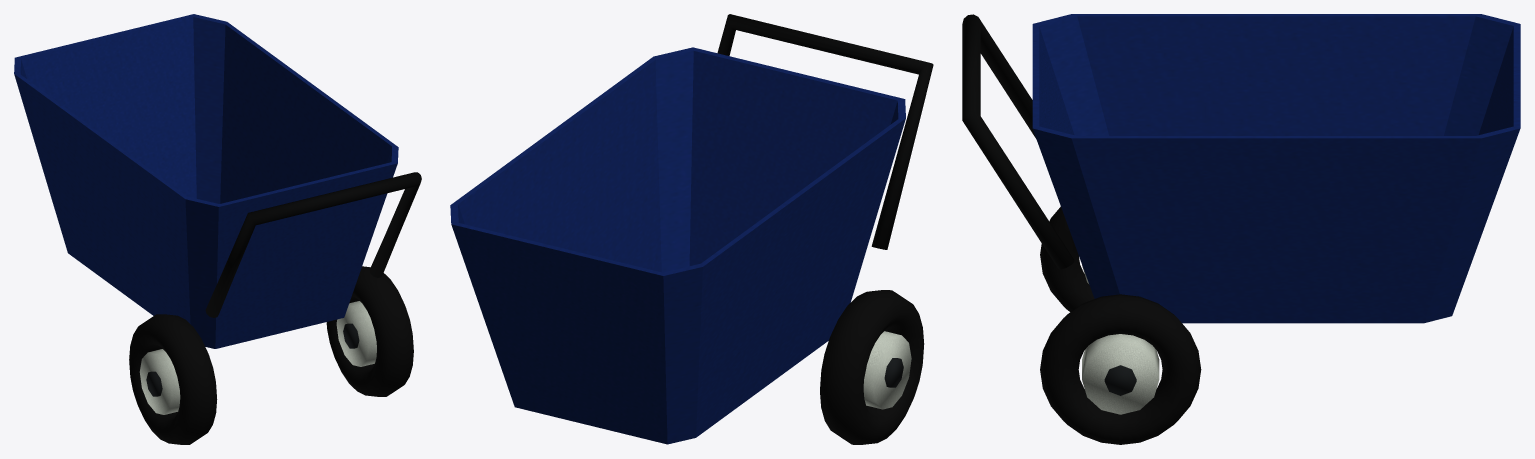
File: PolyCart.gltf
The picture shows the model from 3 angles, left to right: view 1: azimuth 30°, elevation 25°; view 2: azimuth 150°, elevation 25°; view 3: azimuth 270°, elevation 25°; orthographic projection. The views are drawn at different scales.
Visible parts, largest first — view 1: PolyCart__Body, PolyCart__Wheel_-1, PolyCart; view 2: PolyCart__Body, PolyCart__Wheel_-1; view 3: PolyCart__Body, PolyCart, PolyCart__Wheel_-1.
Part boxes in pixels (box(x1,y1,x2,y2)): PolyCart__Body: box(14, 14, 421, 348); PolyCart__Wheel_-1: box(129, 314, 217, 444); PolyCart: box(326, 266, 413, 396); PolyCart__Body: box(450, 14, 933, 444); PolyCart__Wheel_-1: box(820, 290, 924, 444); PolyCart__Body: box(962, 14, 1520, 323); PolyCart: box(1040, 294, 1201, 444); PolyCart__Wheel_-1: box(1040, 206, 1094, 311).
Size of the model in its own units: 0.7389 by 0.8007 by 1.26.
1 material, 1 textured.
